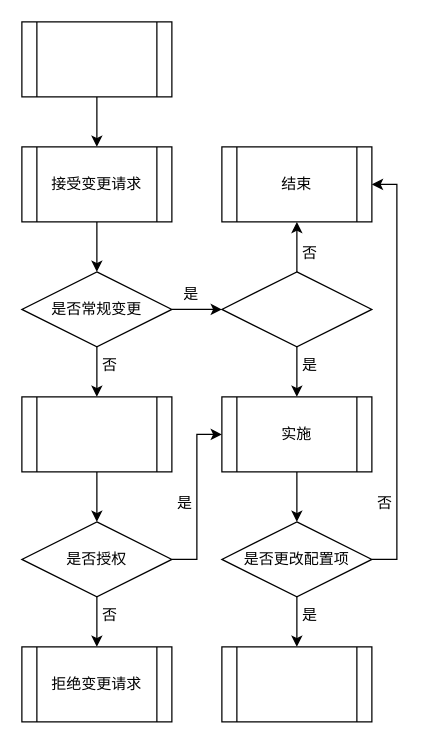
Some shapes in this 431 by 744 pixel diagram are drawn without their labels. The shapes that lost their labels are listed below. From the top down, each one's centre as x and y in pixels, then its label:
the point at 96,59: 提交变更请求
the point at 296,309: 是否可执行
the point at 96,434: 评估风险
the point at 296,684: 更改配置项
